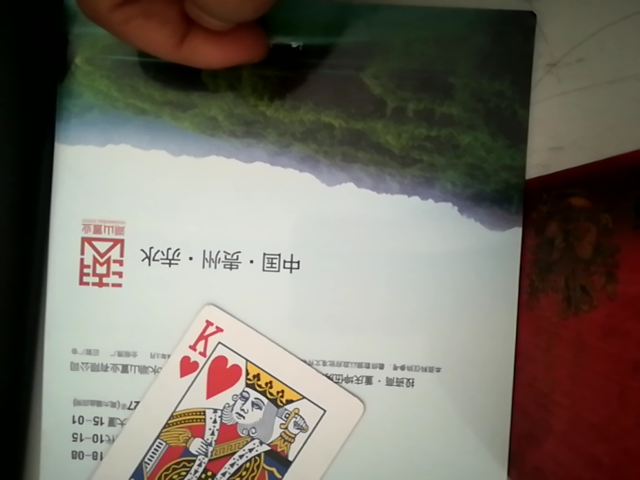hx k: (61, 290, 373, 477)
